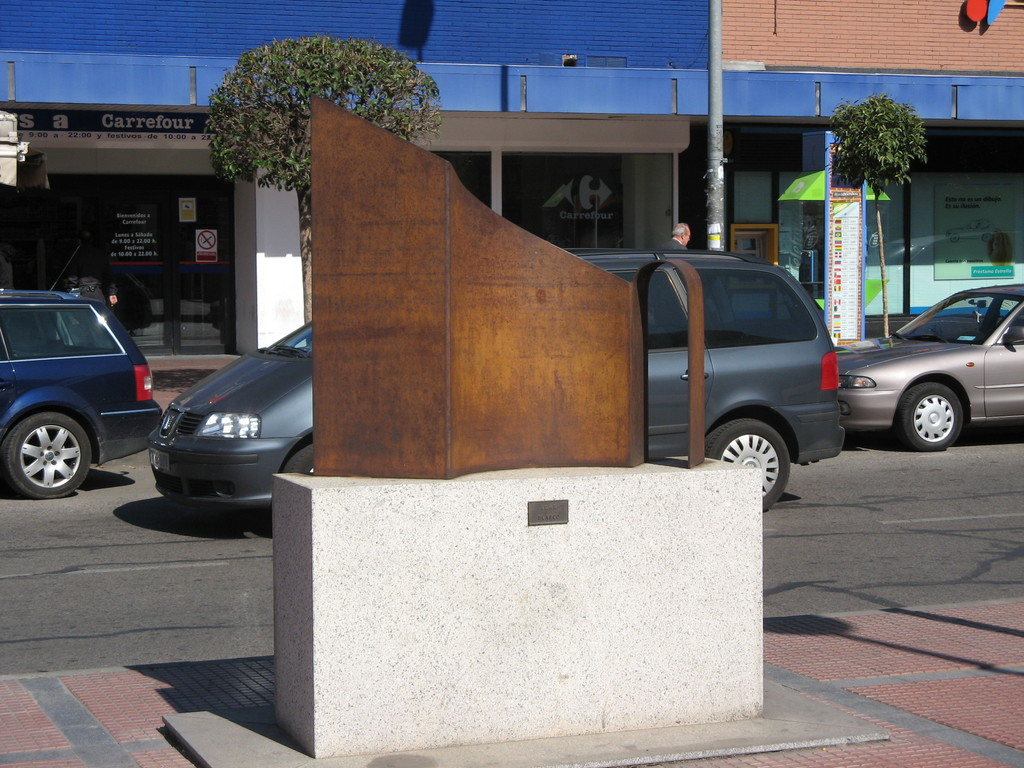Car: (149, 244, 843, 513), (0, 286, 165, 503), (837, 285, 1023, 456)
